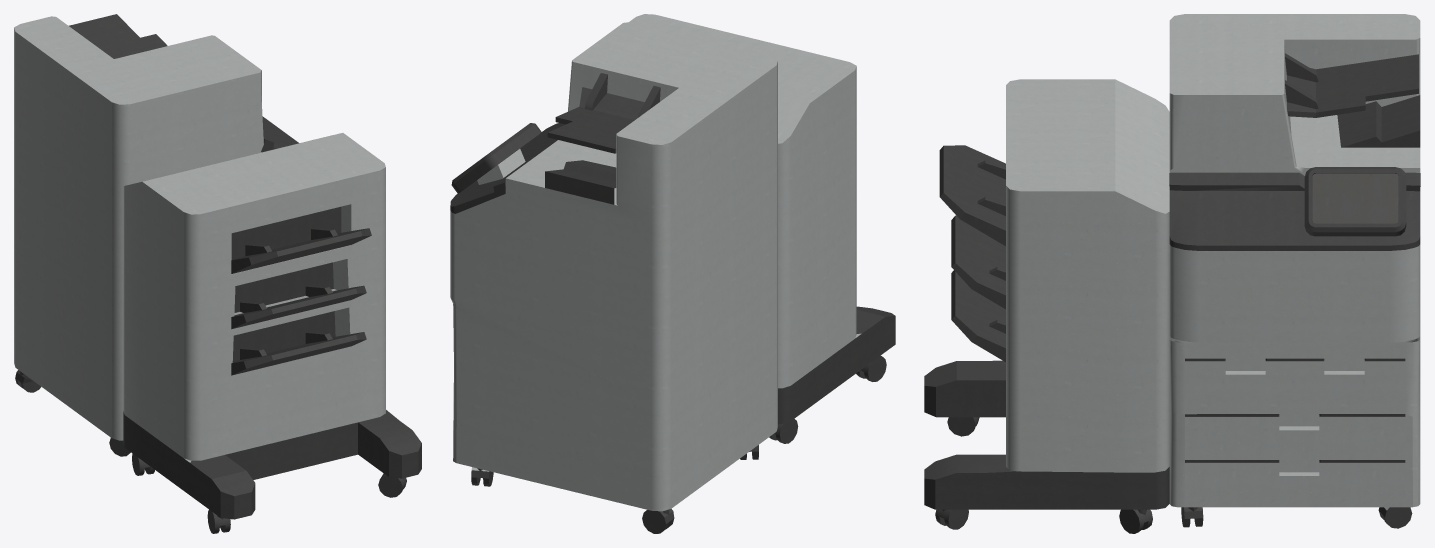
Rendered from SM_printer_a_big.fbx.
3 views of the same model, side by side, from view 1: azimuth 30°, elevation 25°; view 2: azimuth 150°, elevation 25°; view 3: azimuth 270°, elevation 25° (orthographic). The views are drawn at different scales.
Visible parts, largest first — view 1: polySurface315, polySurface316; view 2: polySurface315, polySurface316; view 3: polySurface315, polySurface316, polySurface314.
Part boxes in pixels (box(x1,y1,x2,y2)): polySurface315: box(14, 16, 385, 462); polySurface316: box(15, 14, 421, 533); polySurface315: box(450, 14, 861, 511); polySurface316: box(450, 73, 895, 533); polySurface315: box(1006, 14, 1420, 510); polySurface316: box(924, 53, 1420, 533); polySurface314: box(1312, 173, 1398, 223).
Bounding box in the file's own units: 0.8212 × 1.39 × 1.51.
